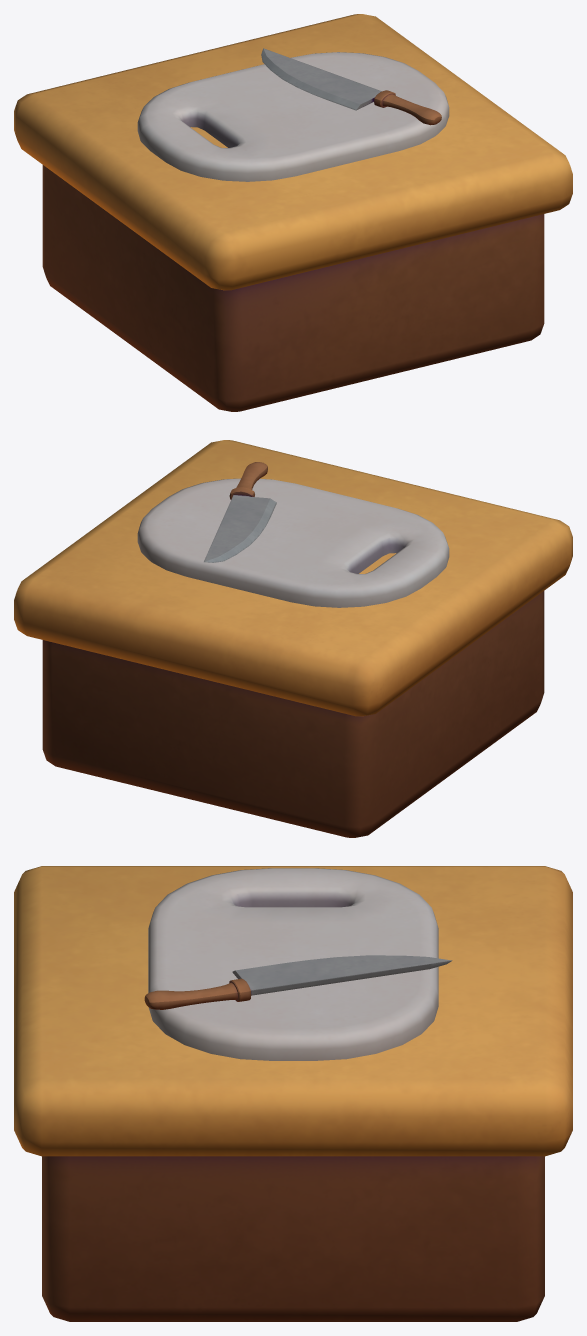
The model's file is CuttingCounter.fbx.
The picture shows the model from 3 angles, top to bottom: view 1: azimuth 30°, elevation 25°; view 2: azimuth 150°, elevation 25°; view 3: azimuth 270°, elevation 25°; orthographic projection. The views are drawn at different scales.
Visible parts, largest first — view 1: CuttingCounter.Base, CuttingCounter.CuttingBoard, CuttingCounter.Knife; view 2: CuttingCounter.Base, CuttingCounter.CuttingBoard, CuttingCounter.Knife; view 3: CuttingCounter.Base, CuttingCounter.CuttingBoard, CuttingCounter.Knife.
Part boxes in pixels (x1,y1,x2,y2): CuttingCounter.Base: (14, 14, 572, 411); CuttingCounter.CuttingBoard: (137, 52, 449, 181); CuttingCounter.Knife: (261, 48, 441, 125); CuttingCounter.Base: (14, 440, 572, 837); CuttingCounter.CuttingBoard: (137, 478, 449, 607); CuttingCounter.Knife: (204, 462, 276, 562); CuttingCounter.Base: (14, 866, 572, 1321); CuttingCounter.CuttingBoard: (148, 868, 438, 1060); CuttingCounter.Knife: (144, 955, 452, 1009).
Size of the model in its own units: 100 by 57.46 by 100.
